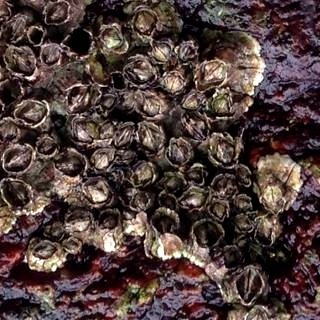Barnacle: (66, 86, 96, 116), (4, 144, 36, 172), (18, 101, 52, 127), (8, 45, 35, 77), (182, 112, 208, 143), (84, 177, 111, 206), (4, 179, 30, 208), (239, 271, 263, 302), (140, 122, 163, 153), (128, 59, 154, 86), (200, 61, 227, 87), (211, 137, 237, 164), (195, 220, 219, 249), (58, 151, 84, 177), (215, 174, 239, 202), (180, 186, 209, 209), (265, 184, 288, 212), (29, 240, 57, 263), (100, 27, 125, 52), (3, 17, 27, 43), (163, 69, 186, 96), (68, 209, 91, 235), (133, 9, 155, 35), (47, 2, 70, 25), (153, 212, 176, 235), (257, 219, 276, 246), (138, 93, 159, 117), (74, 121, 94, 145), (42, 44, 63, 66), (211, 95, 232, 117), (168, 141, 190, 162), (152, 40, 171, 64), (37, 136, 58, 157), (162, 172, 184, 192), (182, 89, 205, 108), (92, 151, 112, 172), (133, 164, 154, 184), (96, 92, 115, 112), (185, 164, 205, 183), (222, 248, 240, 269), (97, 119, 115, 139), (179, 43, 197, 62), (99, 214, 118, 232), (0, 122, 17, 142), (131, 191, 148, 211), (235, 196, 253, 214), (63, 236, 82, 253), (117, 127, 133, 147), (117, 92, 135, 109), (238, 167, 253, 186), (161, 192, 177, 209), (234, 218, 252, 233), (211, 201, 225, 220), (237, 236, 253, 251), (123, 209, 136, 222)
